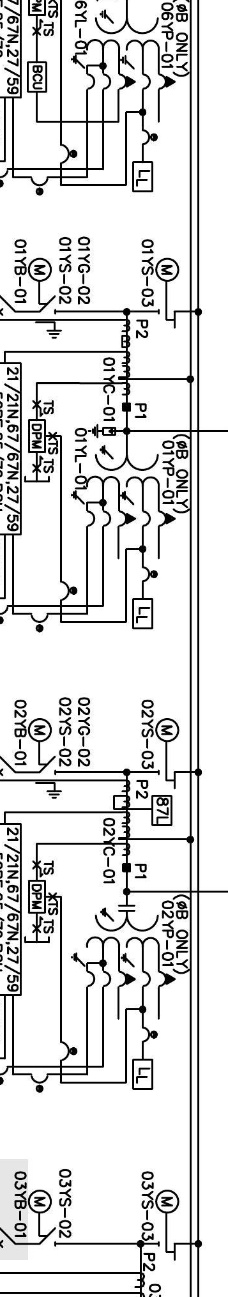115_1way_ds_w_motor: (27, 1189, 62, 1271), (154, 717, 180, 790), (154, 257, 180, 329), (155, 1189, 180, 1261)
115_3ways_ds_w_motor: (27, 257, 62, 339), (27, 718, 62, 800)
115_cvt_1p: (71, 904, 176, 989)
115_la: (87, 423, 116, 439)
115_vt_1p: (71, 445, 176, 528), (70, 9, 176, 91)
BCU: (26, 61, 48, 93)
DPM: (28, 879, 46, 914), (28, 419, 46, 453)
LL: (132, 161, 154, 193), (132, 598, 154, 630), (132, 1058, 154, 1090)
